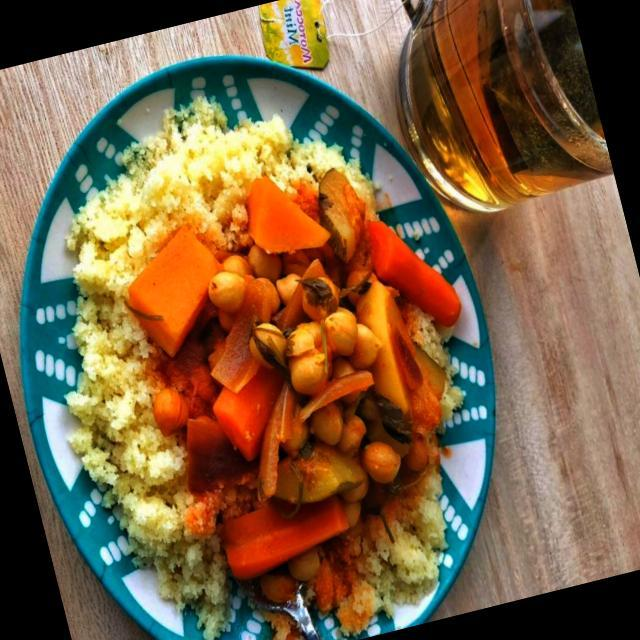Couscous: (0, 19, 545, 640)
